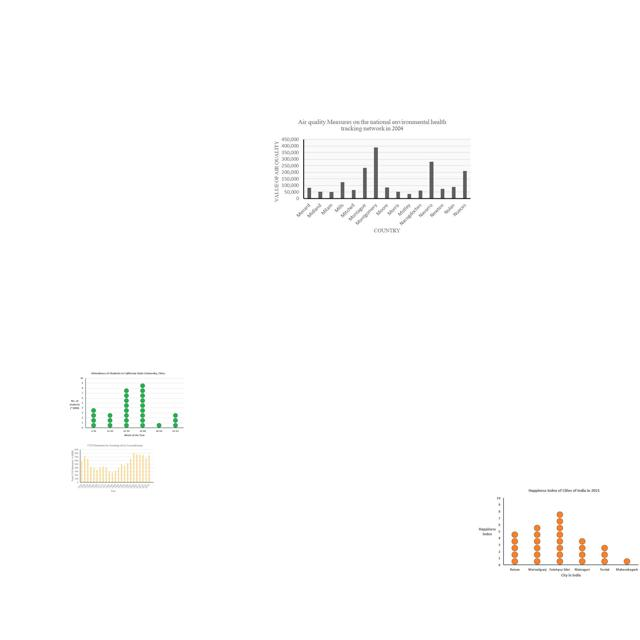Graph: (270, 116, 474, 236), (474, 486, 640, 582), (67, 370, 186, 439), (70, 443, 155, 493)
